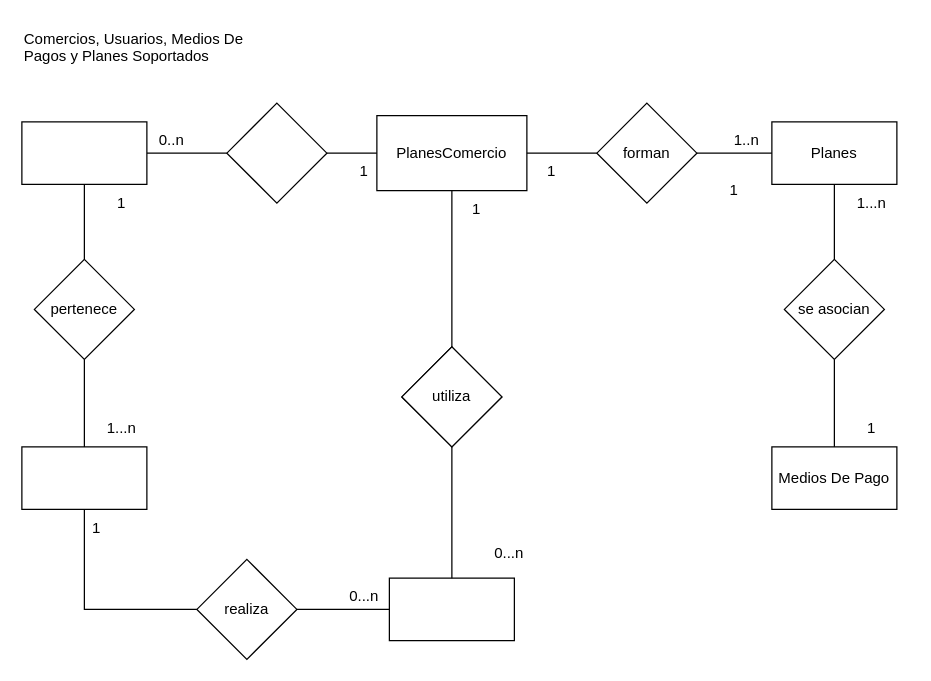
Some shapes in this 931 by 681 pixel diagram are drawn without their labels. The shapes that lost their labels are listed below. From the top down, each one's box as (x1, y1, x2, y2) in pixels, then its label:
(21, 121, 147, 184): Comercios
(226, 102, 327, 203): Adhieren
(21, 446, 147, 509): Usuario
(388, 577, 514, 641): Venta
